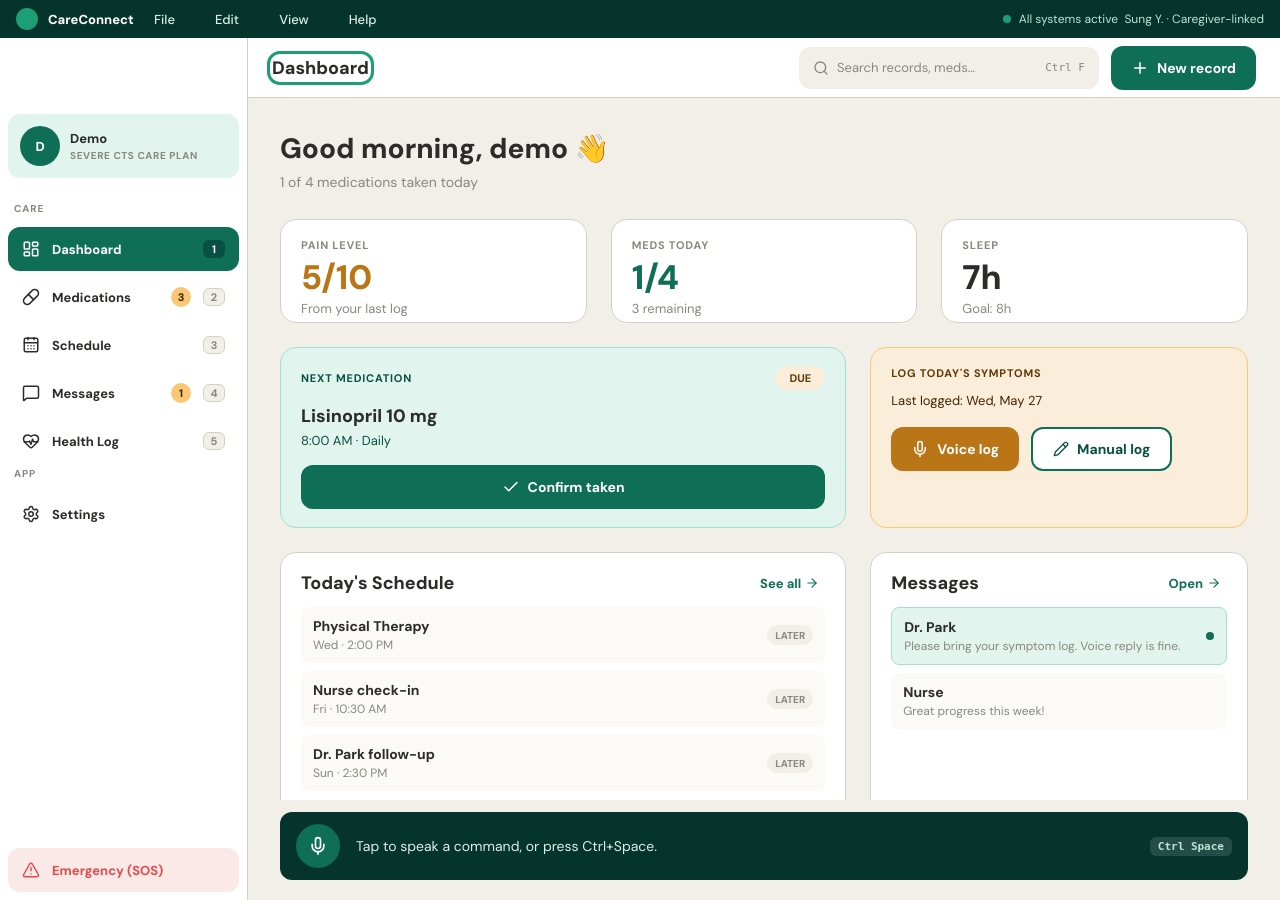
Test: GlobalSearchOverlay › opens from the Dashboard search button
This screenshot has width=1280, height=900.
Click the button "Search records, meds… Ctrl F". click: (949, 68)
box: [799,46,1099,88]
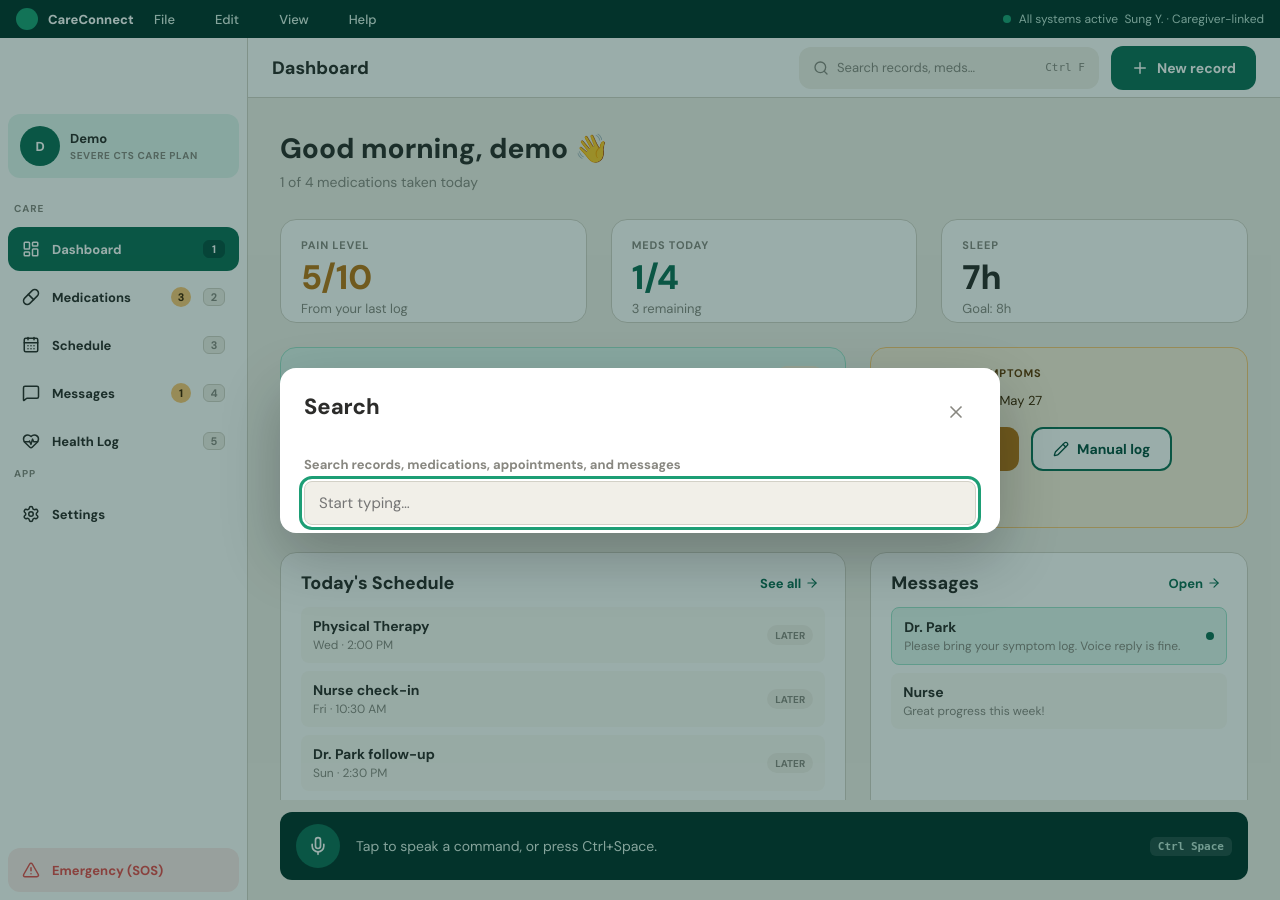
Expected: the dialog "Search" is shown, [280,368,1000,532]
